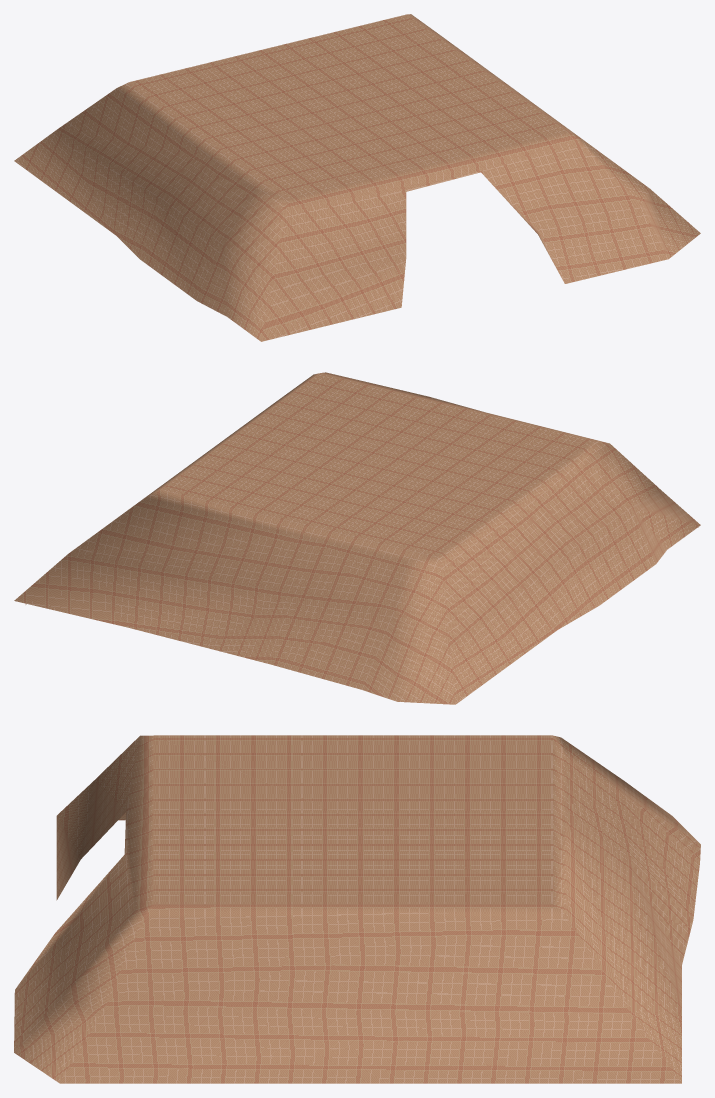
File: kd_stage_135ded_4_116_bounded.glb
3 renders of one model, top to bottom at view 1: azimuth 30°, elevation 25°; view 2: azimuth 150°, elevation 25°; view 3: azimuth 270°, elevation 25°, orthographic. The views are drawn at different scales.
Visible parts, largest first — view 1: kd_stage_135ded_4_116_bounded; view 2: kd_stage_135ded_4_116_bounded; view 3: kd_stage_135ded_4_116_bounded.
Boxes of the visible parts, x1=… form: kd_stage_135ded_4_116_bounded: x1=14, y1=14, x2=700, y2=341; kd_stage_135ded_4_116_bounded: x1=14, y1=372, x2=700, y2=704; kd_stage_135ded_4_116_bounded: x1=14, y1=735, x2=700, y2=1083.
Bounding box in the file's own units: 1.79 × 0.3806 × 1.9.
1 material, 1 textured.
